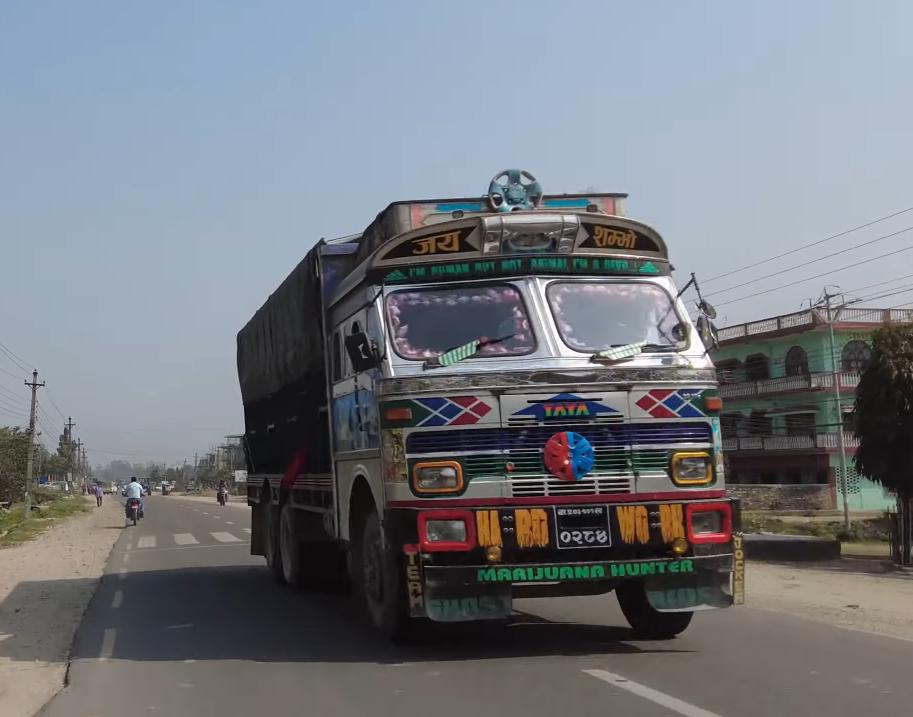truck: (234, 169, 745, 643)
